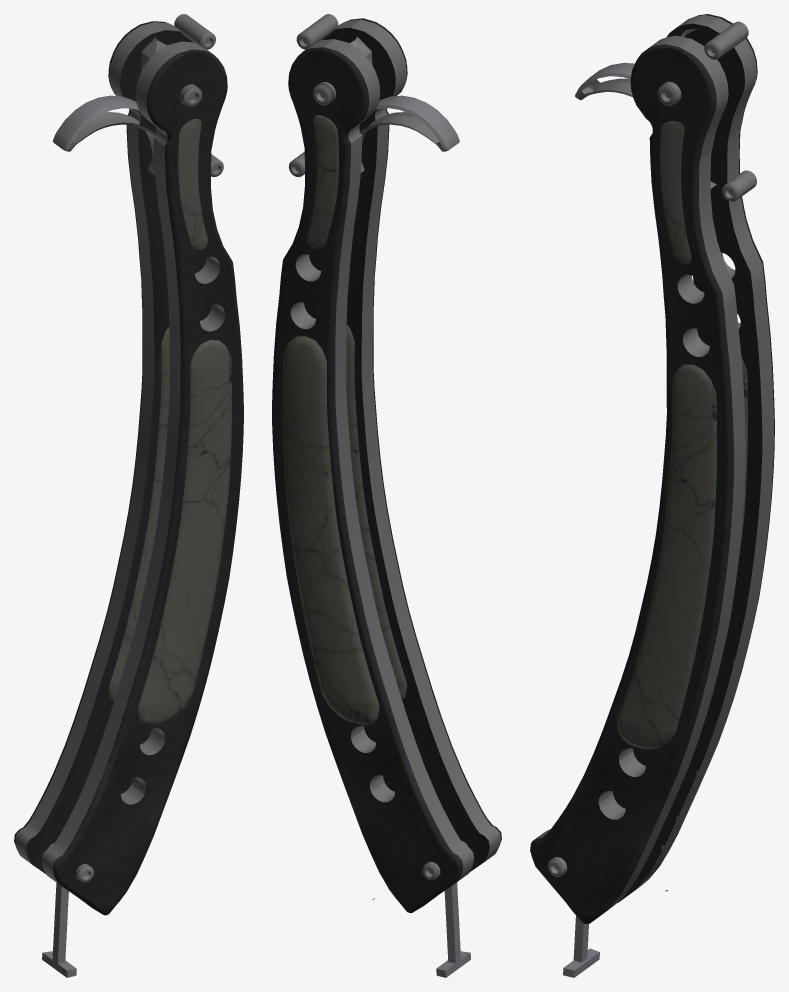
File: Back.obj
The picture shows the model from 3 angles, left to right: view 1: azimuth 30°, elevation 25°; view 2: azimuth 150°, elevation 25°; view 3: azimuth 330°, elevation 25°; orthographic projection. The views are drawn at different scales.
Visible parts, largest first — view 1: Back1; view 2: Back1; view 3: Back1.
Part boxes in pixels (left/top/right/bottom): Back1: left=14, top=14, right=243, bottom=977; Back1: left=272, top=14, right=501, bottom=977; Back1: left=530, top=14, right=774, bottom=977.
Size of the model in its own units: 0.2173 by 0.9935 by 0.1038.
1 material, 1 textured.
